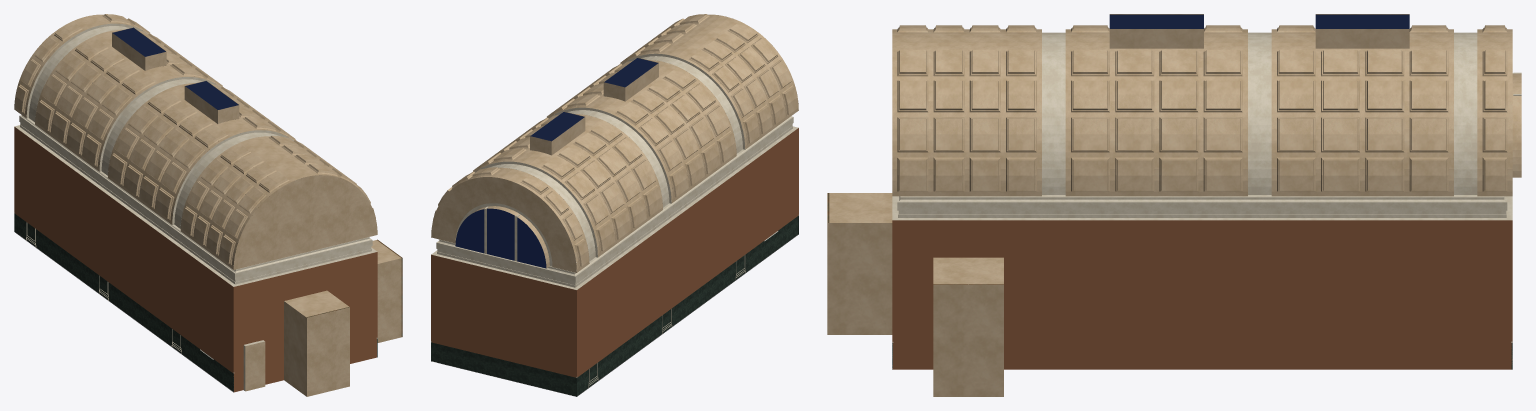
File: sala.glb
3 views of the same model, side by side, from view 1: azimuth 30°, elevation 25°; view 2: azimuth 150°, elevation 25°; view 3: azimuth 270°, elevation 25° (orthographic). The views are drawn at different scales.
Parts seen in each view (by area): view 1: muros, boveda, emisivos; view 2: muros, boveda, emisivos, suelo; view 3: muros, boveda, emisivos.
Boxes of the visible parts, x1,y1,x2,y2 form: muros: (14, 15, 401, 396); boveda: (14, 14, 377, 269); emisivos: (112, 27, 238, 109); muros: (431, 15, 798, 396); boveda: (431, 14, 798, 272); emisivos: (455, 58, 658, 268); suelo: (432, 235, 797, 396); muros: (827, 72, 1521, 396); boveda: (892, 14, 1512, 196); emisivos: (1109, 14, 1409, 28).
Bounding box in the file's own units: 10.32 × 11.2 × 23.6.
Materials: 20 (8 with a texture image).
